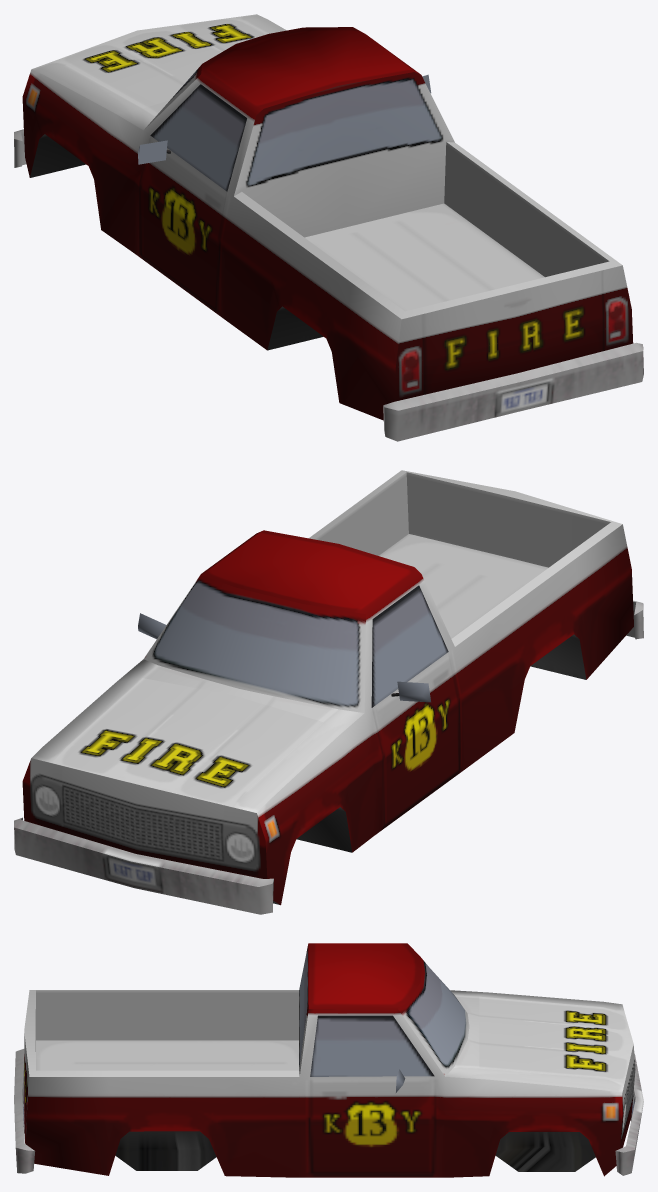
File: Vehicles_PickUpTruck.FBX
The picture shows the model from 3 angles, top to bottom: view 1: azimuth 30°, elevation 25°; view 2: azimuth 150°, elevation 25°; view 3: azimuth 270°, elevation 25°; orthographic projection. The views are drawn at different scales.
Parts seen in each view (by area): view 1: Vehicles_PickUpTruck; view 2: Vehicles_PickUpTruck; view 3: Vehicles_PickUpTruck.
Boxes of the visible parts, box(x1,y1,x2,y2) form: Vehicles_PickUpTruck: box(14, 14, 643, 441); Vehicles_PickUpTruck: box(14, 470, 643, 914); Vehicles_PickUpTruck: box(14, 943, 643, 1177).
Bounding box in the file's own units: 97.68 × 70.69 × 226.
Materials: 1 (1 with a texture image).
